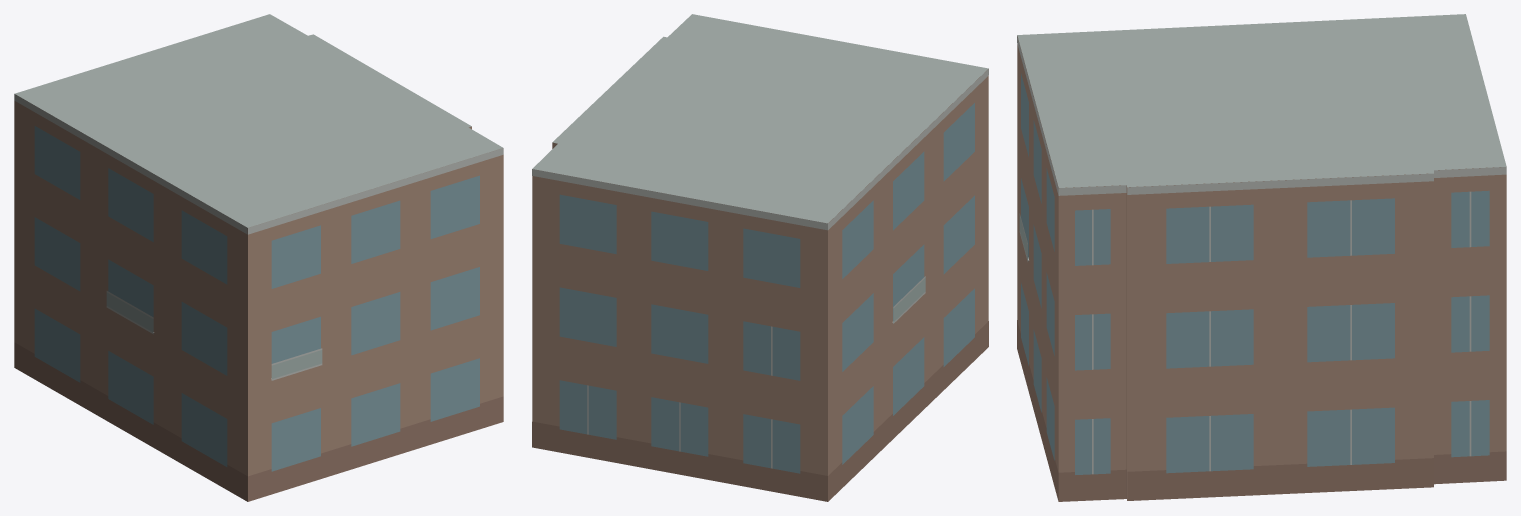
Rendered from survey-upis-32531020.glb.
3 renders of one model, left to right at view 1: azimuth 30°, elevation 25°; view 2: azimuth 150°, elevation 25°; view 3: azimuth 270°, elevation 25°, orthographic. The views are drawn at different scales.
Visible parts, largest first — view 1: survey-upis-32531020.tmp; view 2: survey-upis-32531020.tmp; view 3: survey-upis-32531020.tmp.
Boxes of the visible parts, box(x1,y1,x2,y2) form: survey-upis-32531020.tmp: box(14, 14, 503, 501); survey-upis-32531020.tmp: box(532, 14, 988, 501); survey-upis-32531020.tmp: box(1017, 14, 1506, 501).
Size of the model in its own units: 11.67 by 9.8 by 13.86.
